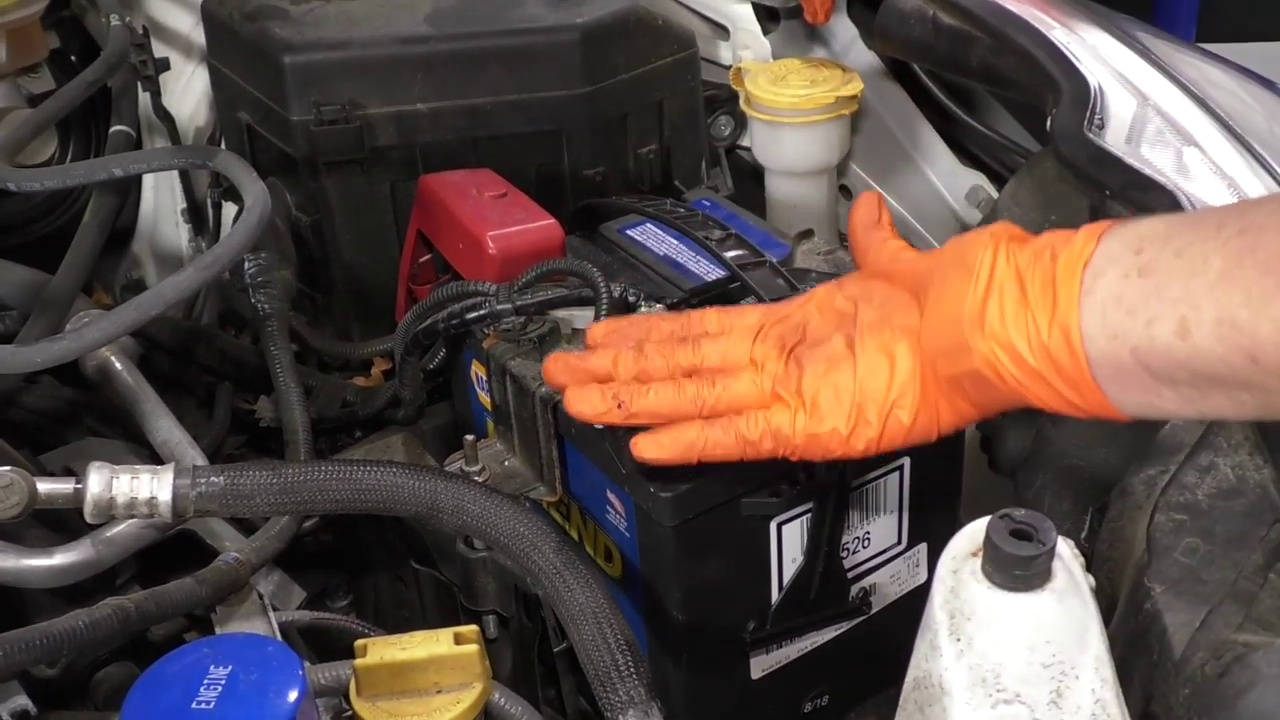battery: (436, 186, 938, 507)
pos_connected: (392, 163, 581, 308)
